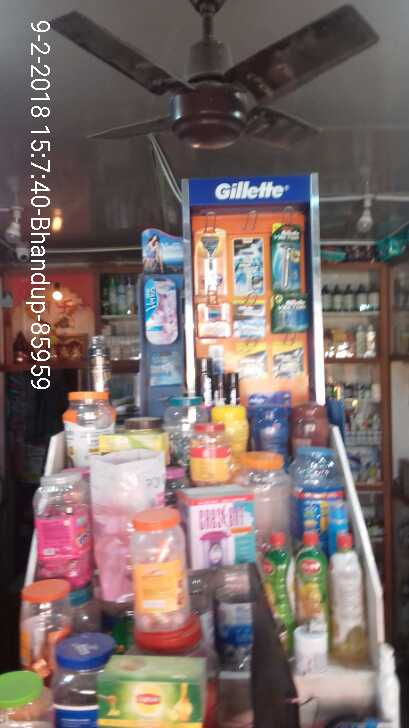beauty: (142, 277, 181, 351), (194, 231, 224, 304), (270, 222, 297, 295), (235, 238, 264, 297), (145, 353, 189, 385), (270, 296, 309, 328), (194, 305, 232, 337), (232, 303, 265, 339)
